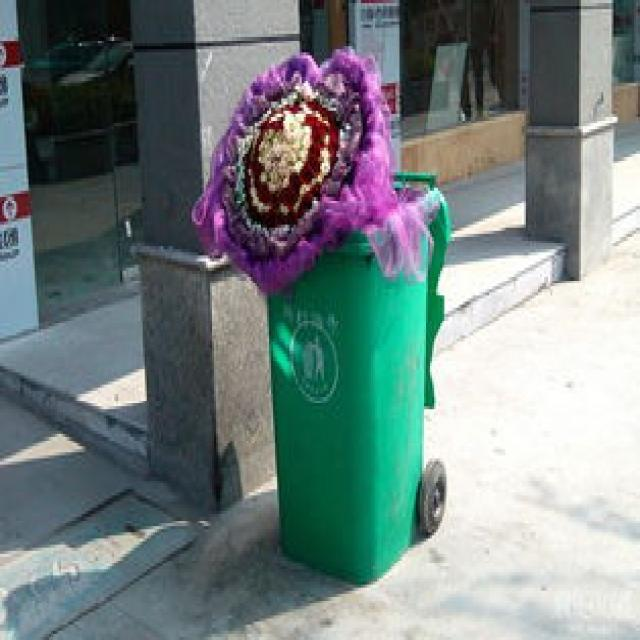overflow: (188, 40, 448, 585)
